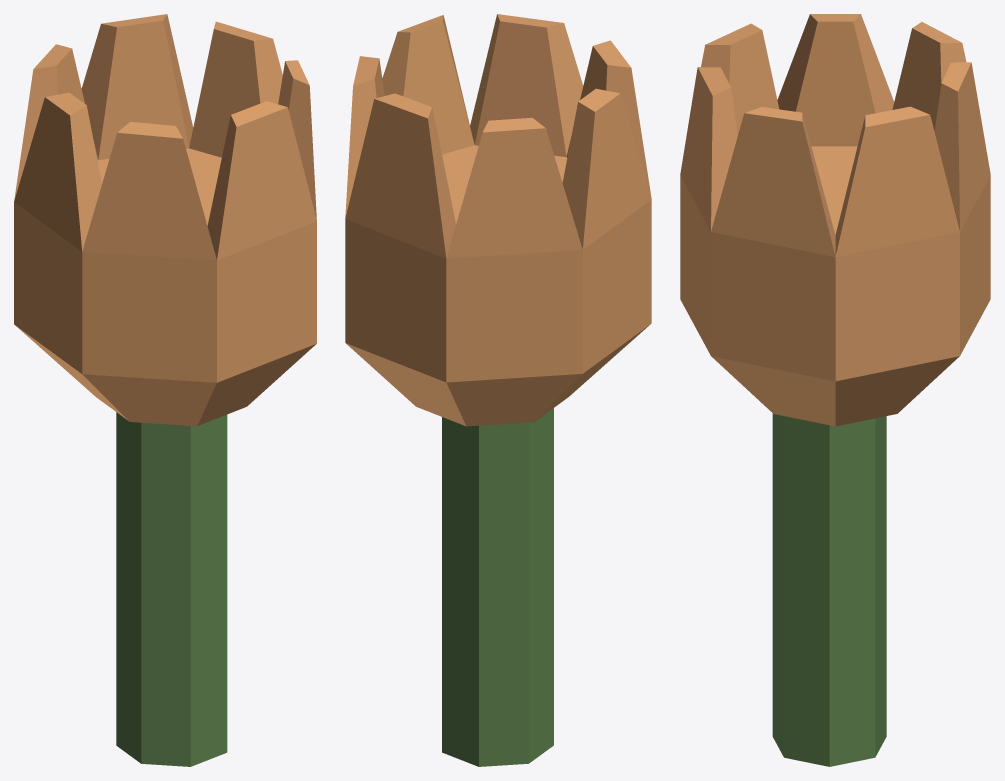
File: orangetulp.fbx
The picture shows the model from 3 angles, left to right: view 1: azimuth 30°, elevation 25°; view 2: azimuth 150°, elevation 25°; view 3: azimuth 270°, elevation 25°; orthographic projection.
Parts seen in each view (by area): view 1: orangetulp; view 2: orangetulp; view 3: orangetulp.
Boxes of the visible parts, box(x1,y1,x2,y2) form: orangetulp: box(14, 14, 316, 766); orangetulp: box(345, 14, 651, 766); orangetulp: box(680, 14, 990, 766).
Bounding box in the file's own units: 0.3301 × 0.8195 × 0.3386.
